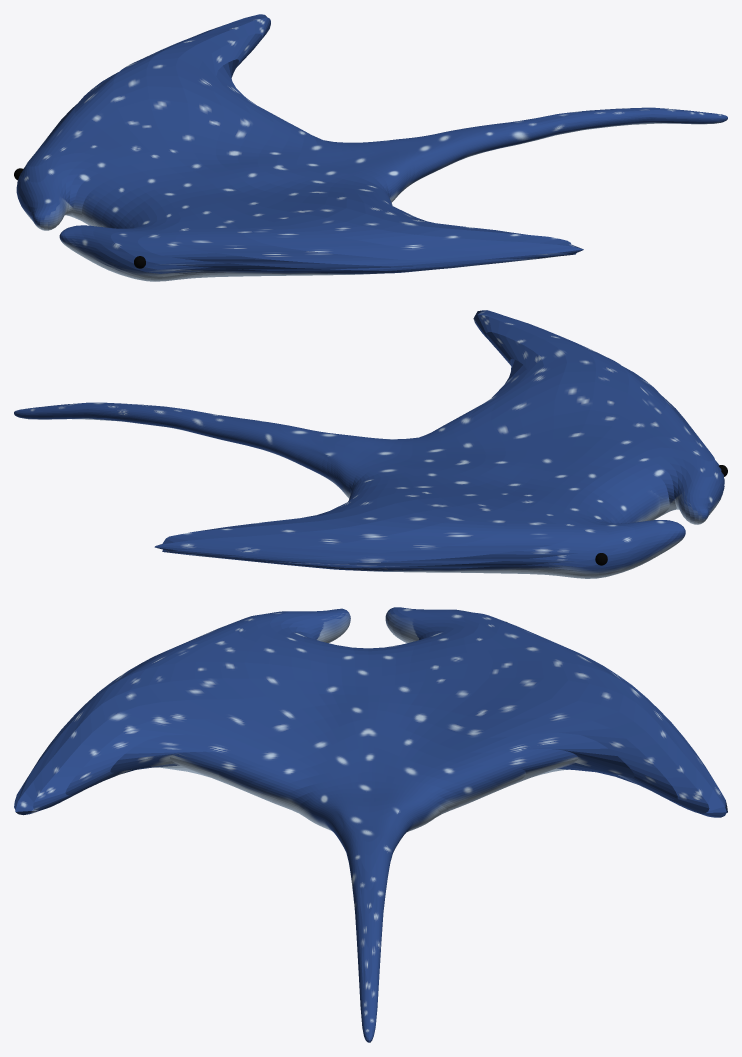
Rendered from mantaray.glb.
3 views of the same model, one above another, from view 1: azimuth 30°, elevation 25°; view 2: azimuth 150°, elevation 25°; view 3: azimuth 270°, elevation 25° (orthographic). The views are drawn at different scales.
Parts seen in each view (by area): view 1: Mantabody; view 2: Mantabody; view 3: Mantabody.
Boxes of the visible parts, box(x1,y1,x2,y2) form: Mantabody: box(16, 14, 727, 281); Mantabody: box(14, 310, 724, 578); Mantabody: box(14, 607, 727, 1042).
Bounding box in the file's own units: 4.48 × 0.5622 × 3.67.
3 materials, 3 textured.
